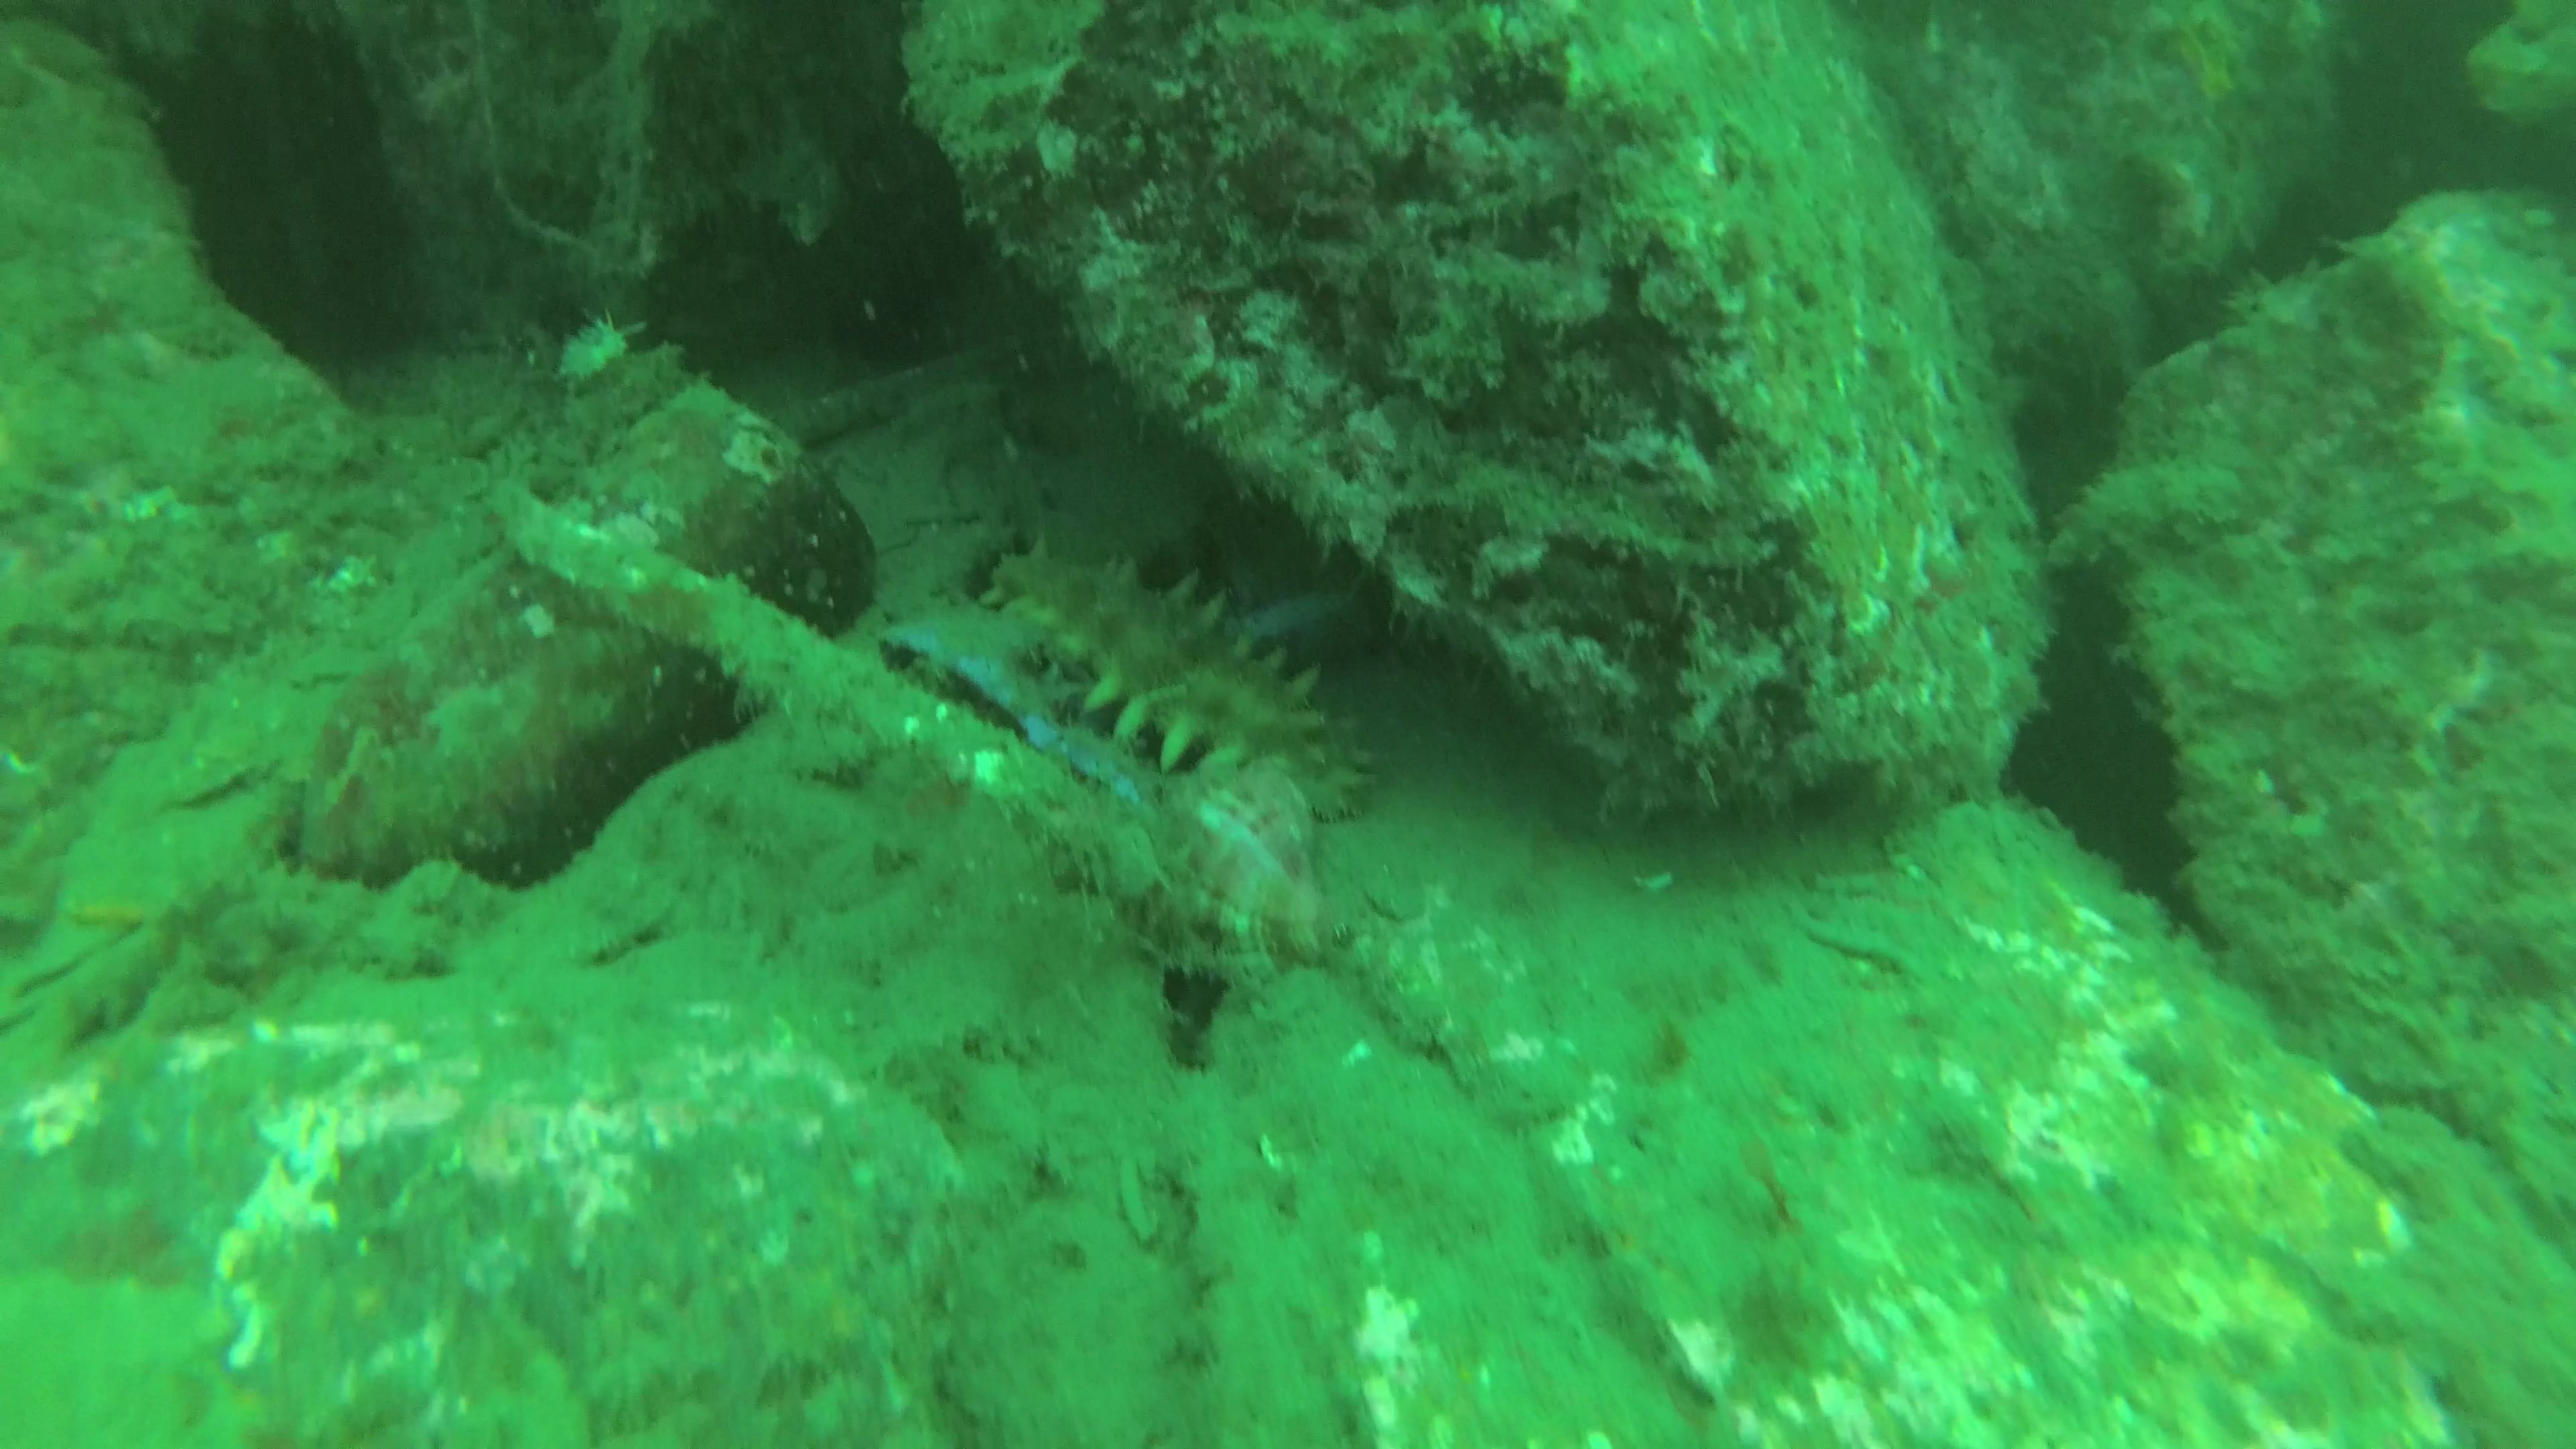holothurian: (982, 527, 1385, 823), (2031, 460, 2238, 556)
